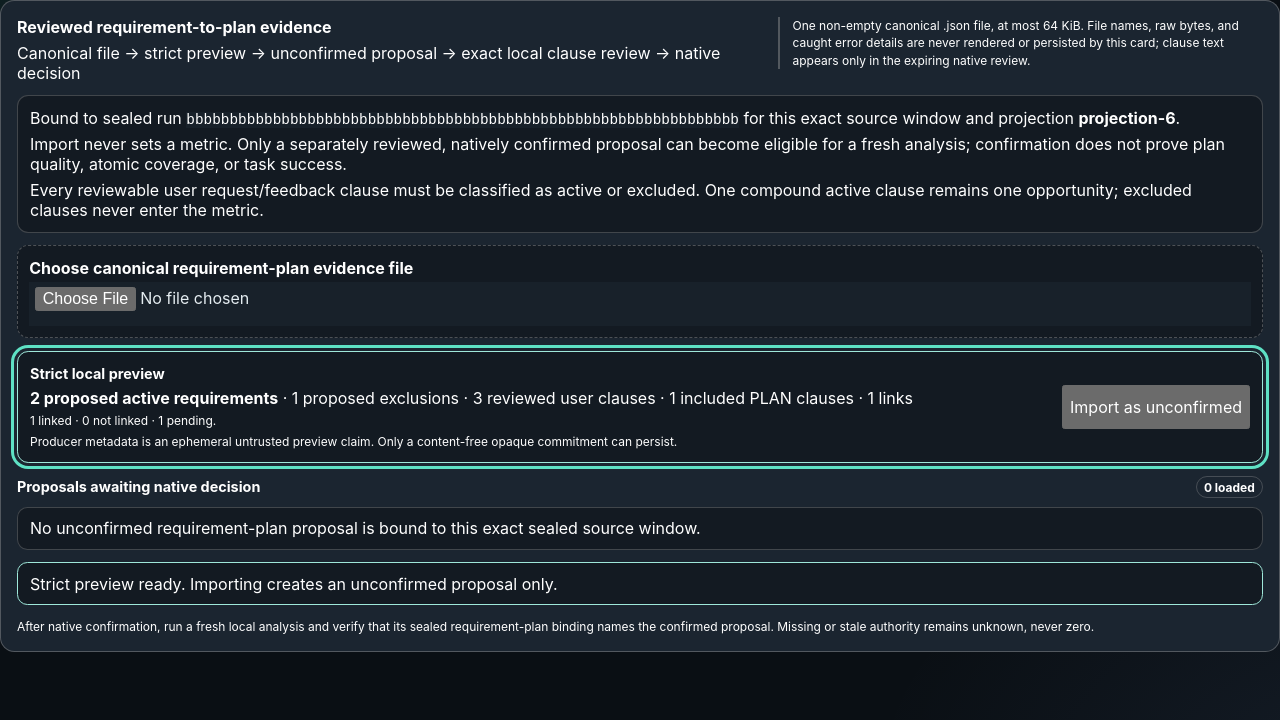
Test case: RequirementPlanEvidencePanel › reviews every active, excluded, included, and omitted clause before receipt-bound confirmation
Earlier steps of the test are not shown.
Later steps or results of the test are not shown.
expect the text "Bound to sealed run" is shown: met, box [30,108,186,128]
expect the text "Producer metadata is an ephemeral untrusted preview claim" is shown: met, box [30,434,677,449]
What coordinates should you click on to do the following:
click the button "Import as unconfirmed"
I would click on:
 (1156, 407)
Its box is [1062,385,1250,429].
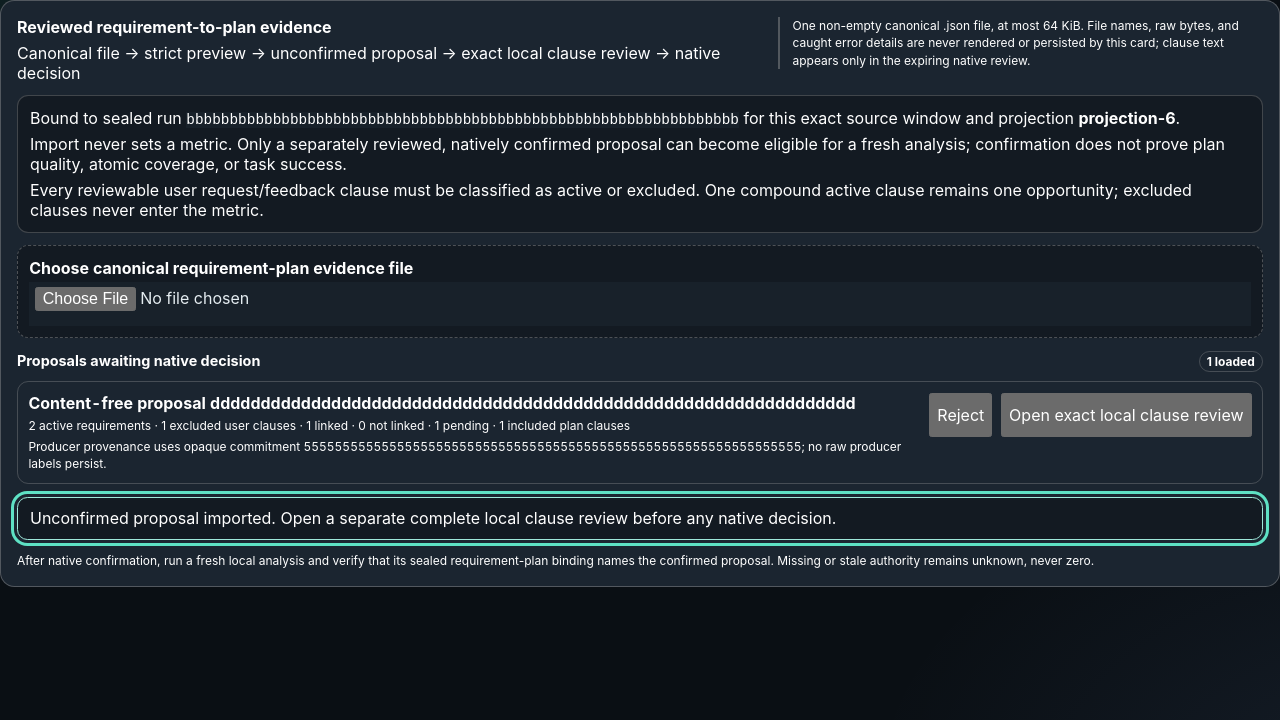
expect the text "opaque commitment 55555555" is shown: met, box [28,438,917,473]
What coordinates should you click on to do the following:
click the button "Open exact local clause review"
I would click on:
 (1126, 414)
Its box is [1001,392,1252,436].
(page scrolled)
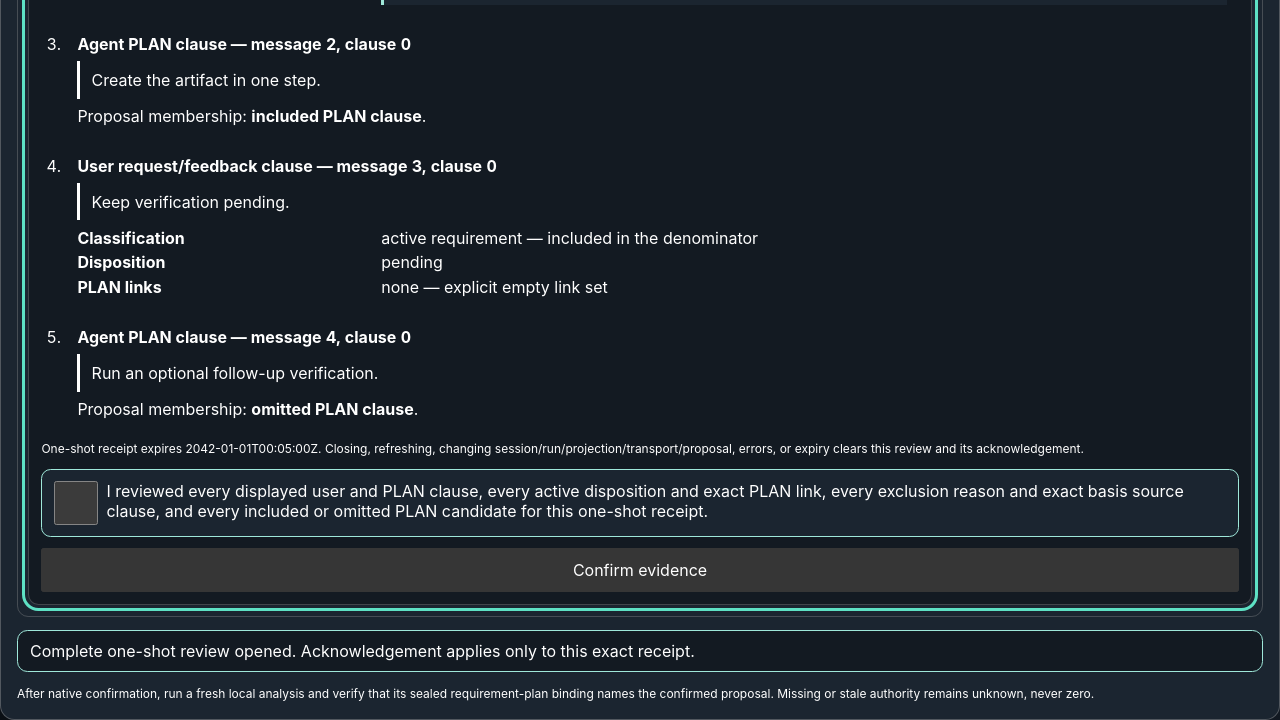
expect the text "Run an optional follow-up verification." is shown: met, box [77,354,1227,392]
expect the text "omitted PLAN clause" is shown: met, box [251,399,414,419]
expect the text "active requirement — included in the denominator" is shown 2 times: met
What coordinates should you click on to do the following:
click the checkbox labelled "I reviewed every displayed user and PLAN clause"
I would click on:
 (76, 503)
Its box is [54,481,98,525].
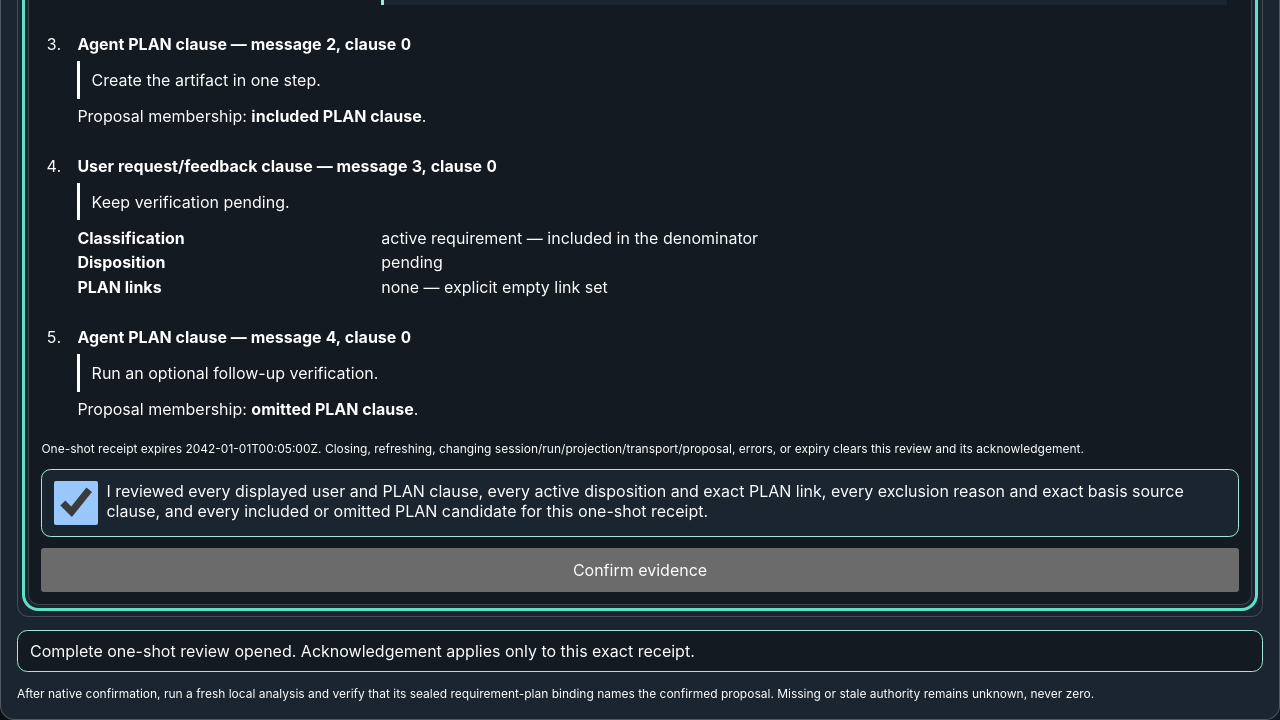
expect the button "Confirm evidence" is enabled: met, box [41,548,1239,592]
